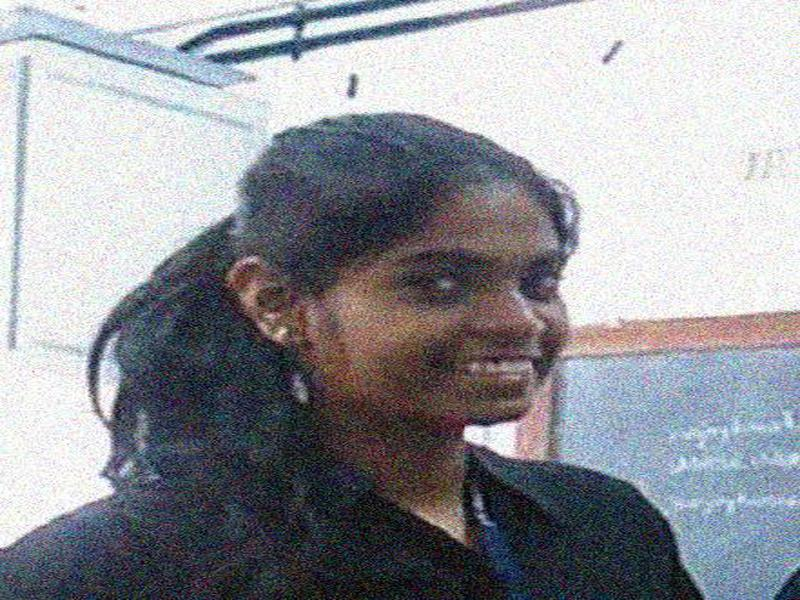without_mask: (317, 201, 568, 423)
